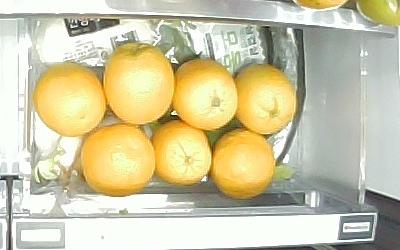orange: (104, 42, 173, 125), (81, 124, 155, 197), (34, 62, 105, 136), (209, 128, 277, 200), (172, 57, 239, 130), (233, 61, 297, 136), (152, 119, 212, 184)
